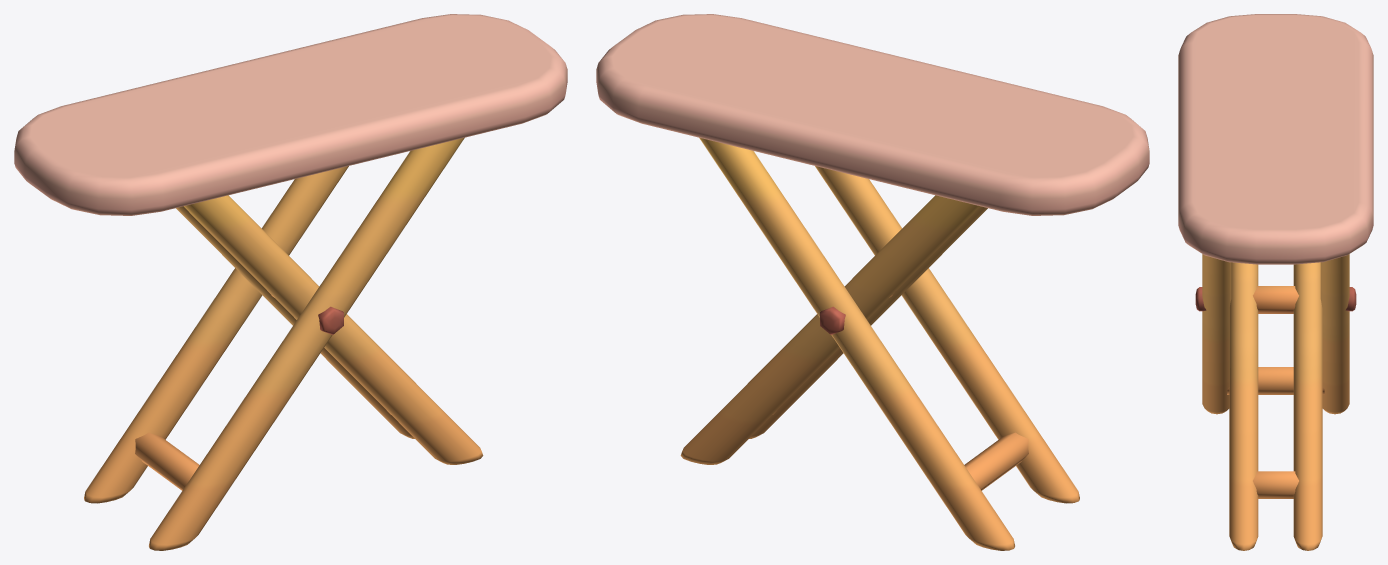
The model's file is IroningBoard_01.glb.
The picture shows the model from 3 angles, left to right: view 1: azimuth 30°, elevation 25°; view 2: azimuth 150°, elevation 25°; view 3: azimuth 270°, elevation 25°; orthographic projection. The views are drawn at different scales.
Visible parts, largest first — view 1: IroningBoard_01; view 2: IroningBoard_01; view 3: IroningBoard_01.
Boxes of the visible parts, <box> form: IroningBoard_01: <box>14,14,567,550</box>; IroningBoard_01: <box>596,14,1149,550</box>; IroningBoard_01: <box>1178,14,1373,550</box>.
Bounding box in the file's own units: 1.31 × 0.9503 × 0.4751.
Materials: 1 (1 with a texture image).
